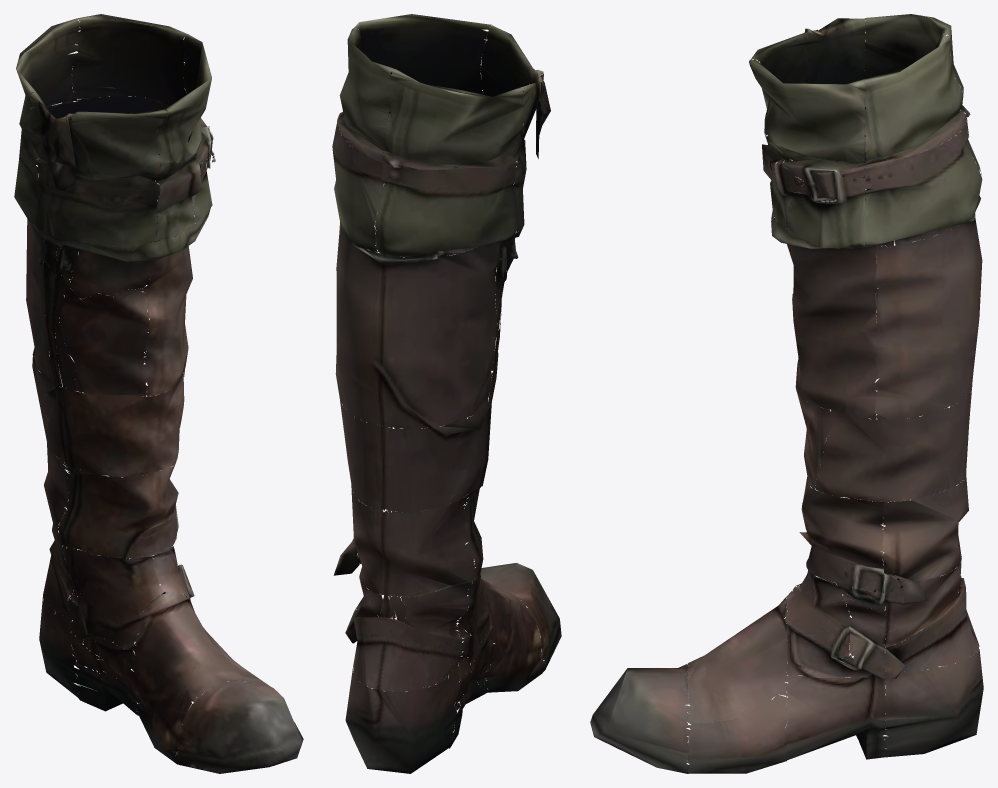
File: a_ranger_boots_R.glb
The picture shows the model from 3 angles, left to right: view 1: azimuth 30°, elevation 25°; view 2: azimuth 150°, elevation 25°; view 3: azimuth 270°, elevation 25°; orthographic projection. The views are drawn at different scales.
Parts seen in each view (by area): view 1: geometry_0.002; view 2: geometry_0.002; view 3: geometry_0.002.
Boxes of the visible parts, x1,y1,x2,y2 form: geometry_0.002: [14, 14, 303, 773]; geometry_0.002: [332, 14, 561, 773]; geometry_0.002: [590, 14, 983, 773].
Bounding box in the file's own units: 0.1469 × 0.4993 × 0.2542.
Materials: 1 (1 with a texture image).
